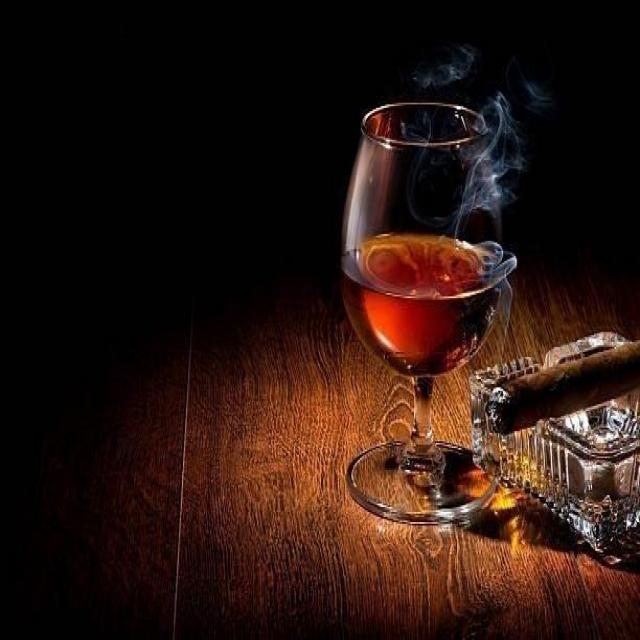glass-wine: (339, 100, 509, 528)
